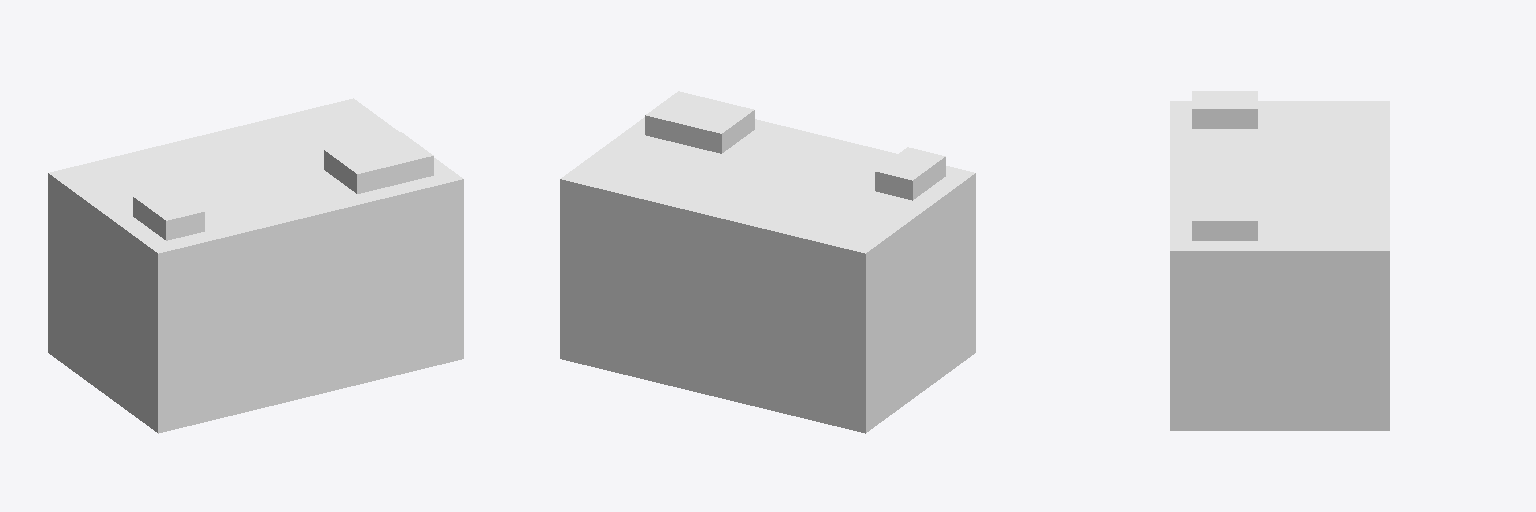
File: Cafe.obj
The picture shows the model from 3 angles: view 1: azimuth 30°, elevation 25°; view 2: azimuth 150°, elevation 25°; view 3: azimuth 270°, elevation 25°; orthographic projection.
Bounding box in the file's own units: 16 × 10 × 10.